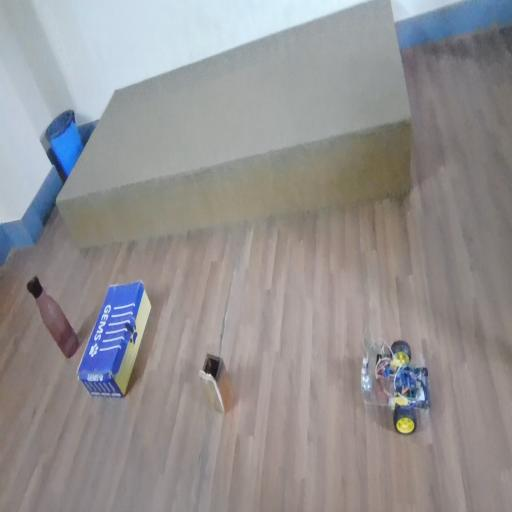Bottle: (18, 264, 90, 355)
car: (351, 335, 438, 445)
